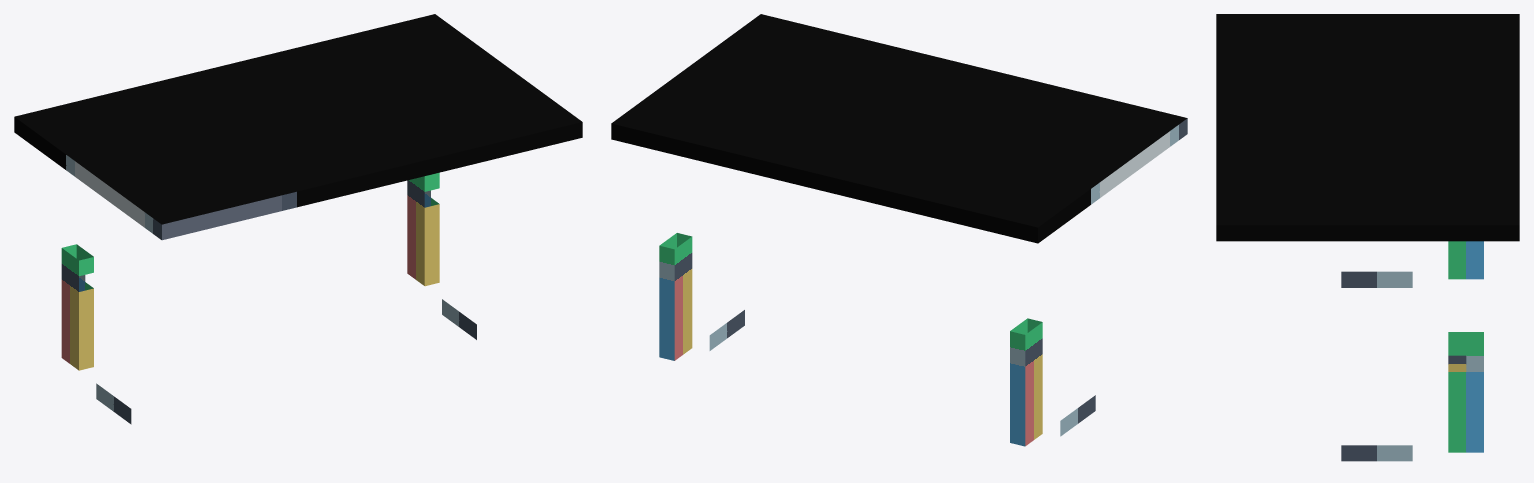
The model's file is table.gltf.
The picture shows the model from 3 angles, left to right: view 1: azimuth 30°, elevation 25°; view 2: azimuth 150°, elevation 25°; view 3: azimuth 270°, elevation 25°; orthographic projection. The views are drawn at different scales.
Parts seen in each view (by area): view 1: cube-col (×4); view 2: cube-col (×5); view 3: cube-col (×5).
Part boxes in pixels (bbox=[...]): cube-col (×4): bbox=[14, 14, 582, 424]; cube-col (×5): bbox=[611, 14, 1187, 446]; cube-col (×5): bbox=[1216, 14, 1519, 461].
Bounding box in the file's own units: 1.75 × 1 × 1.06.
Materials: 2 (2 with a texture image).
